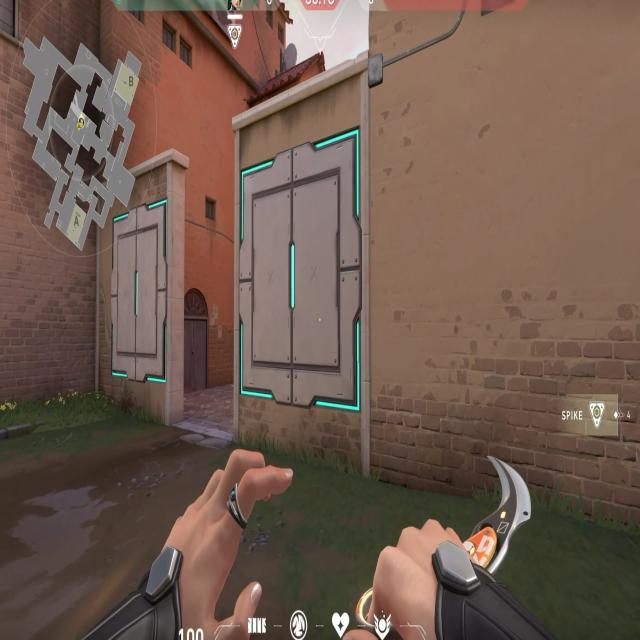Mid_Wall: (231, 68, 370, 470), (94, 152, 184, 417)
